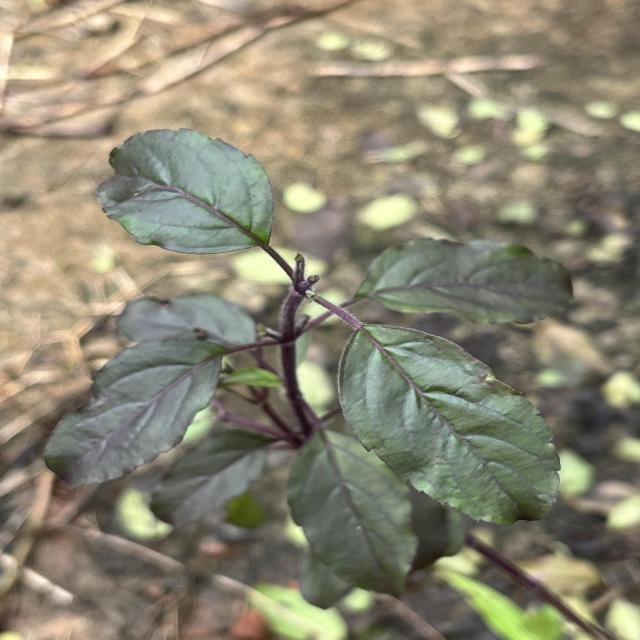Ocimum tenuiflorum: (334, 322, 562, 528), (93, 126, 276, 256)
